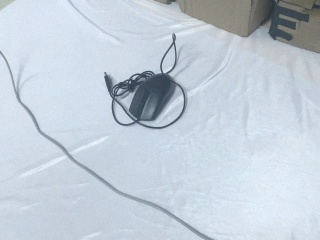box: (172, 1, 279, 38), (268, 1, 320, 54)
mouse: (129, 73, 176, 122)
